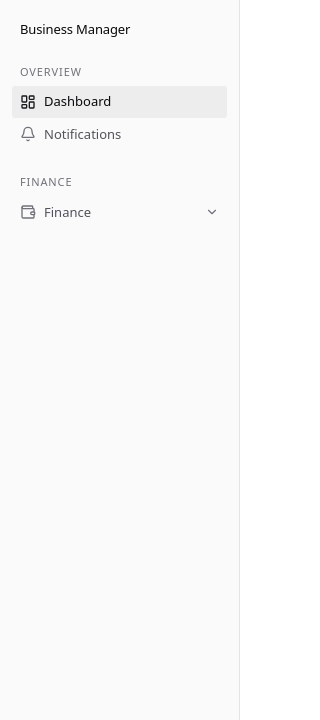
Test: Sidebar › collapses and expands a nested group, and reports state to assistive tech
Click the button "Finance" at coordinates (120, 212), box [12,196,227,228]
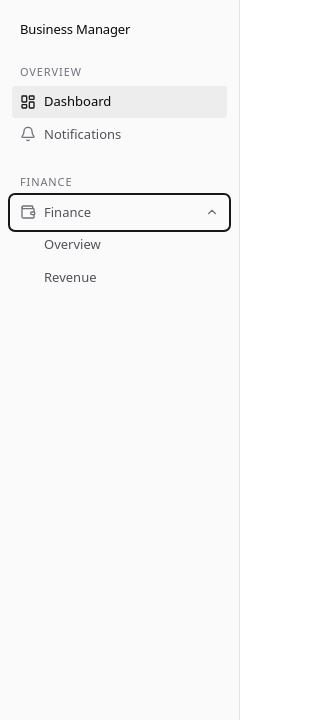
Result: the button "Finance" is expanded
Result: the link "Revenue" is shown at [44,268,96,286]
Click the button "Finance" at coordinates (120, 212), box [12,196,227,228]
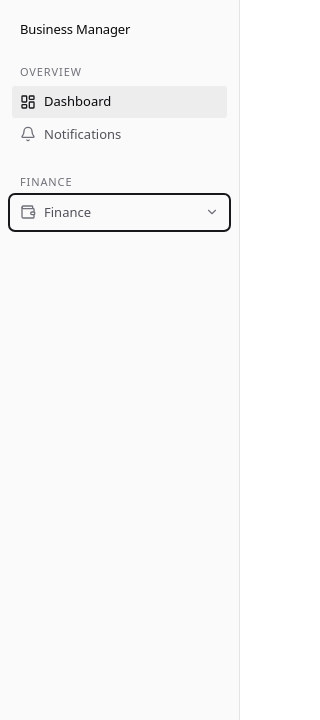
Result: the button "Finance" is collapsed at [12,196,227,228]
